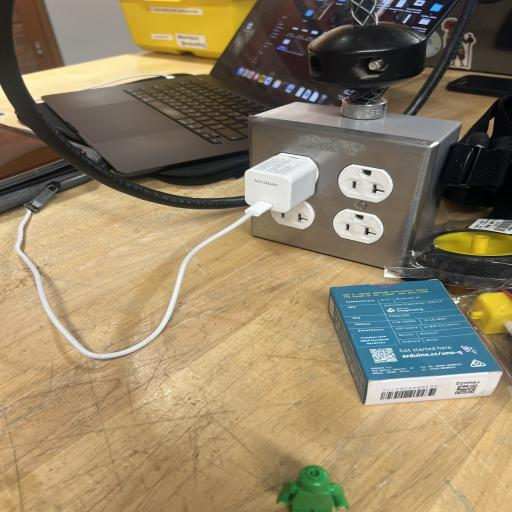green-lego-minifigure-detector: (276, 466, 348, 512)
